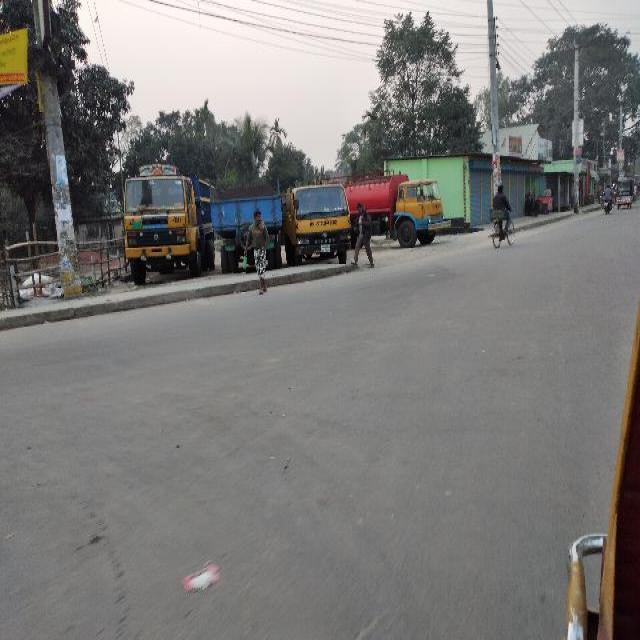bike: (490, 185, 519, 249), (602, 184, 616, 215)
vehicle: (116, 161, 219, 281), (343, 170, 460, 254), (208, 171, 287, 276), (281, 176, 356, 274), (616, 179, 634, 211)
